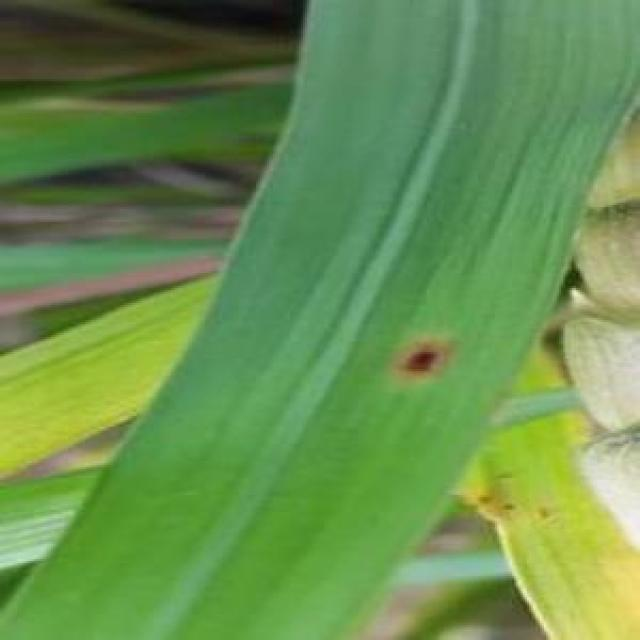Brown_Spot: (392, 330, 452, 394)
